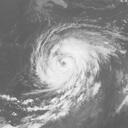cyclone: (30, 23, 109, 91)
